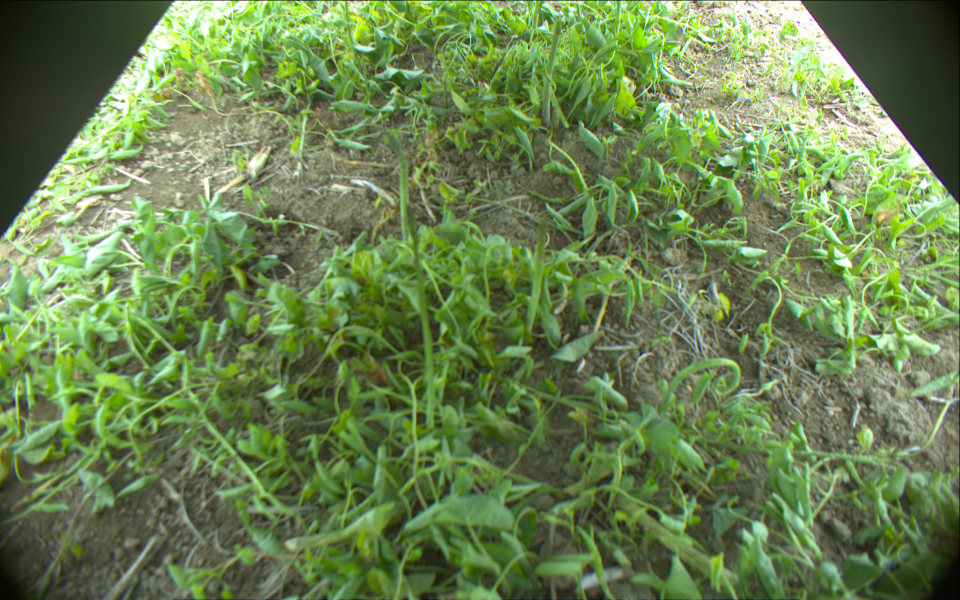aspa: (407, 203, 434, 425), (525, 214, 548, 335), (543, 19, 563, 129), (389, 135, 408, 246)
